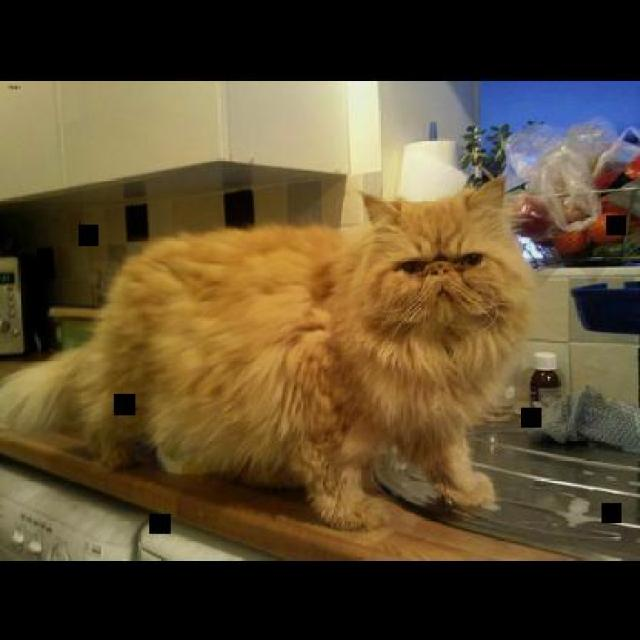unauthorized: (0, 172, 538, 532)
